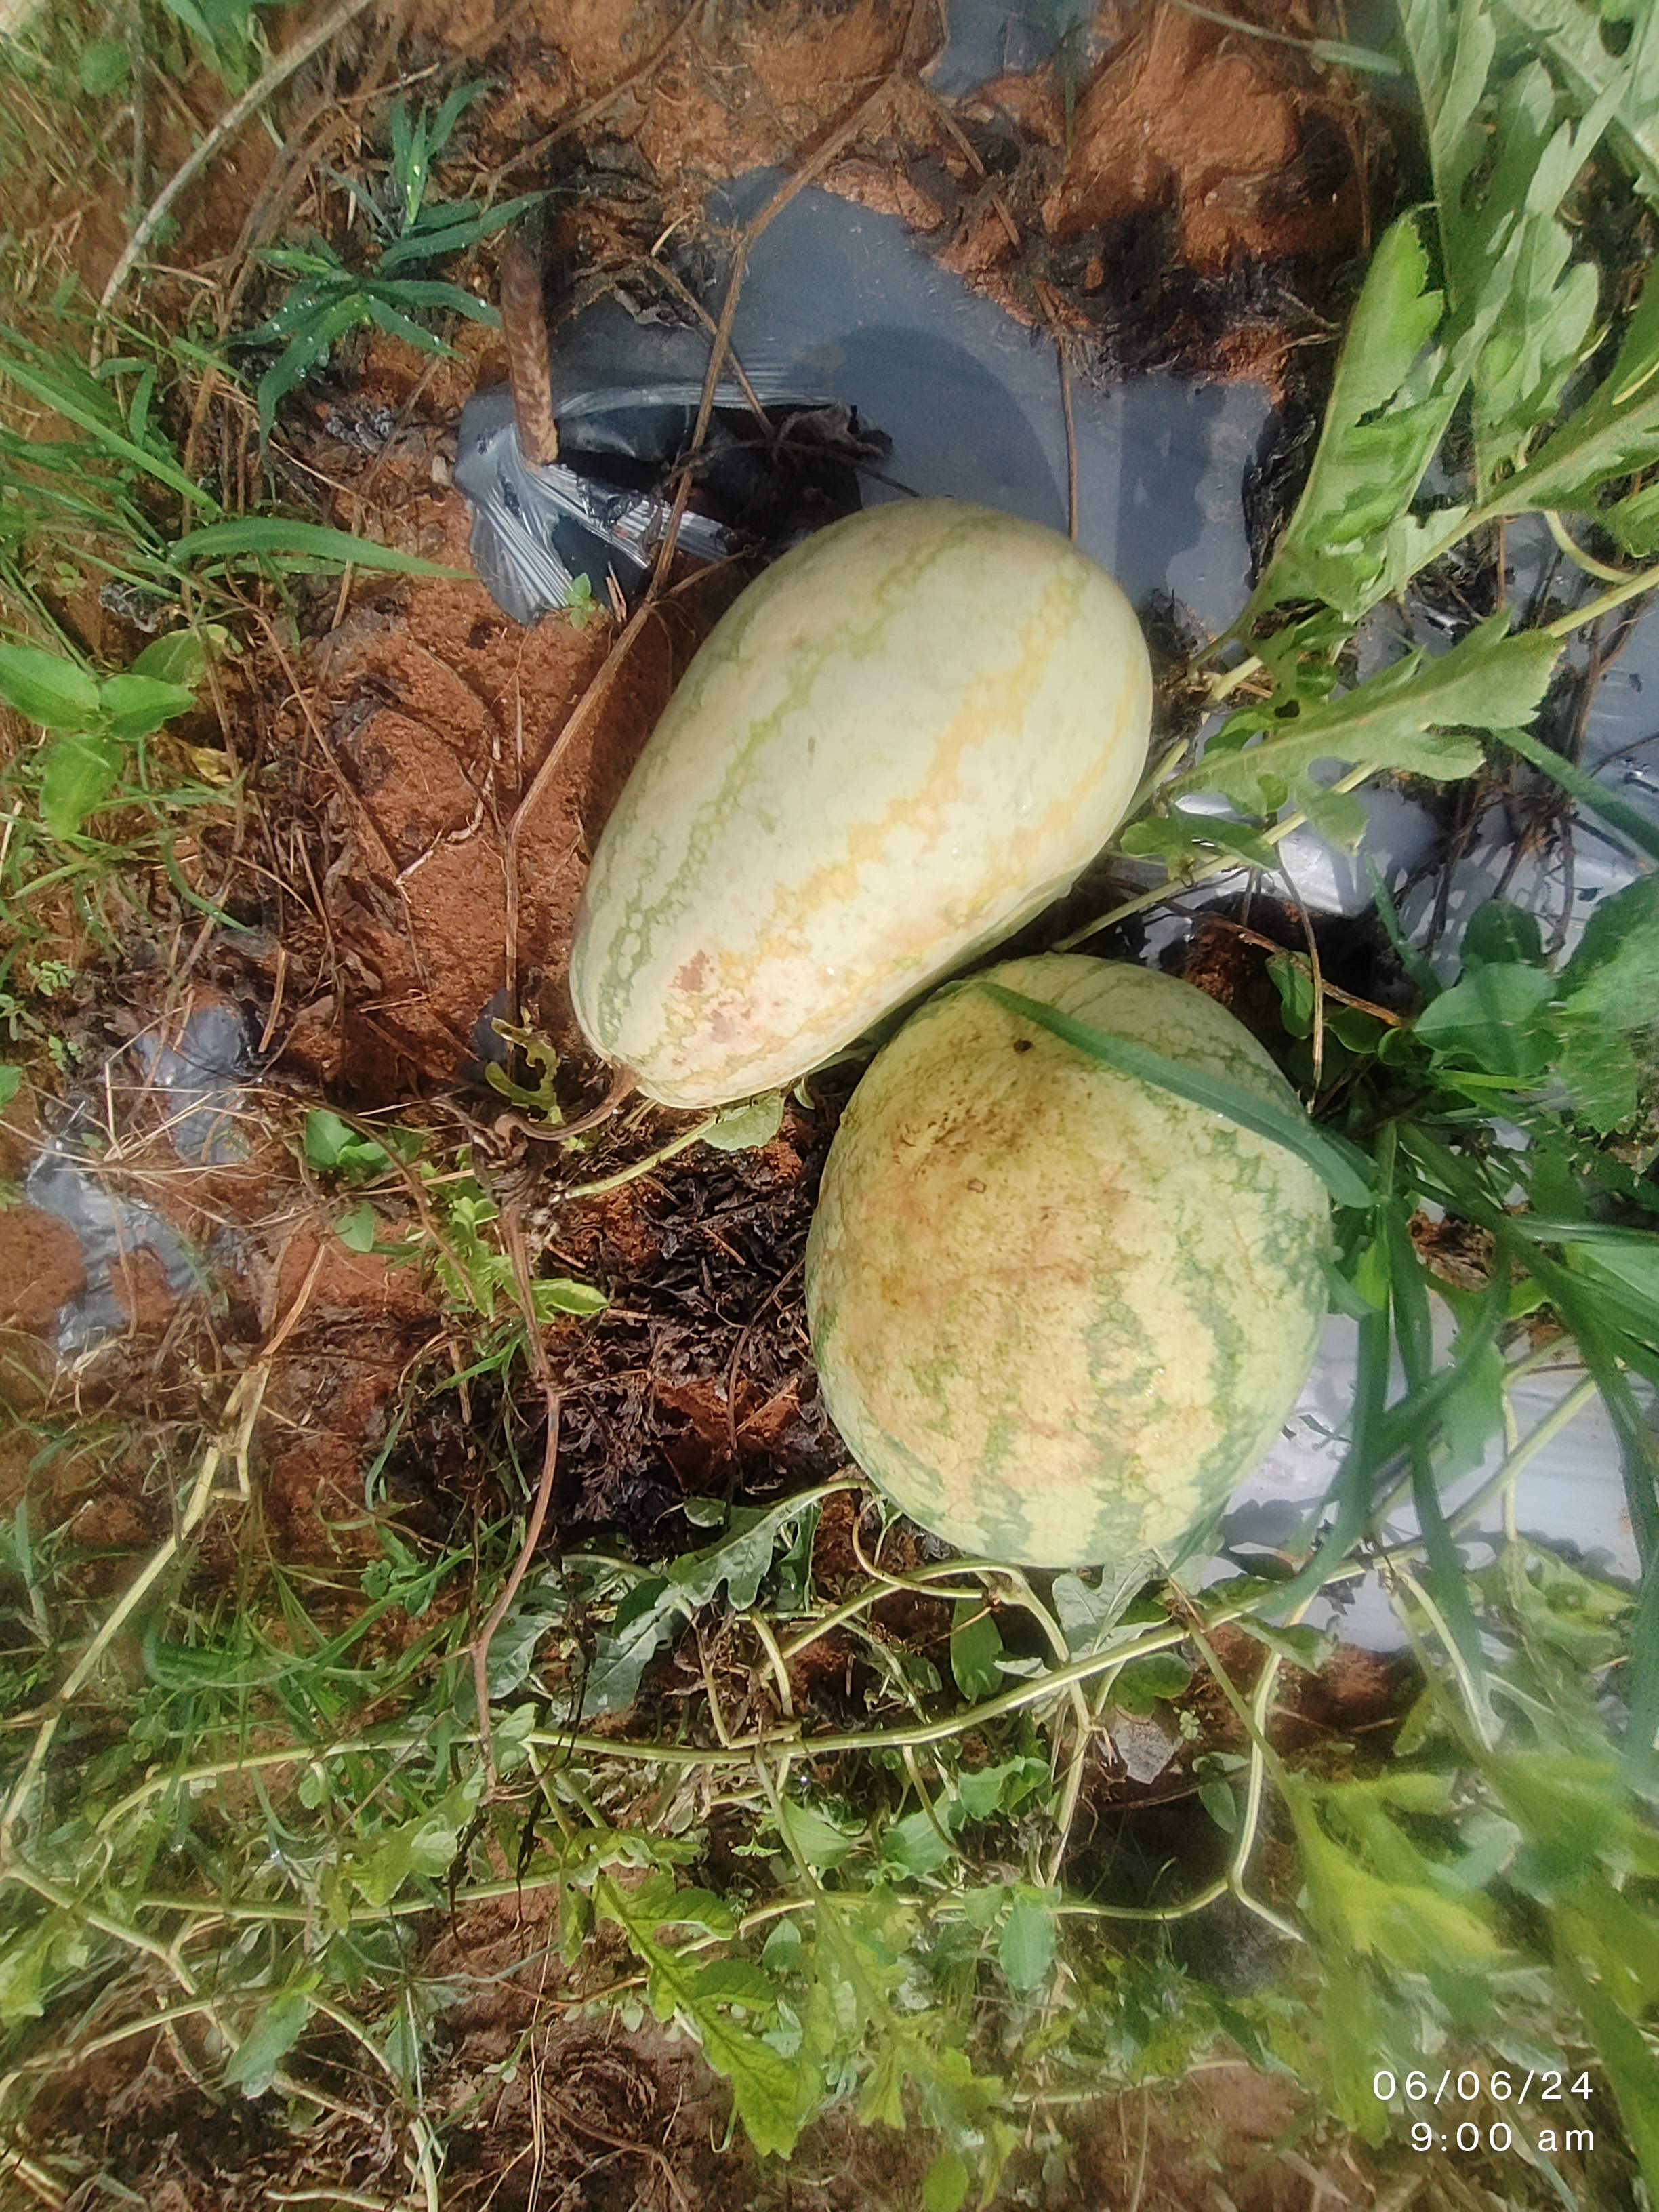not-good-to-harvest: (570, 458, 1319, 1116), (805, 916, 1368, 1674)
